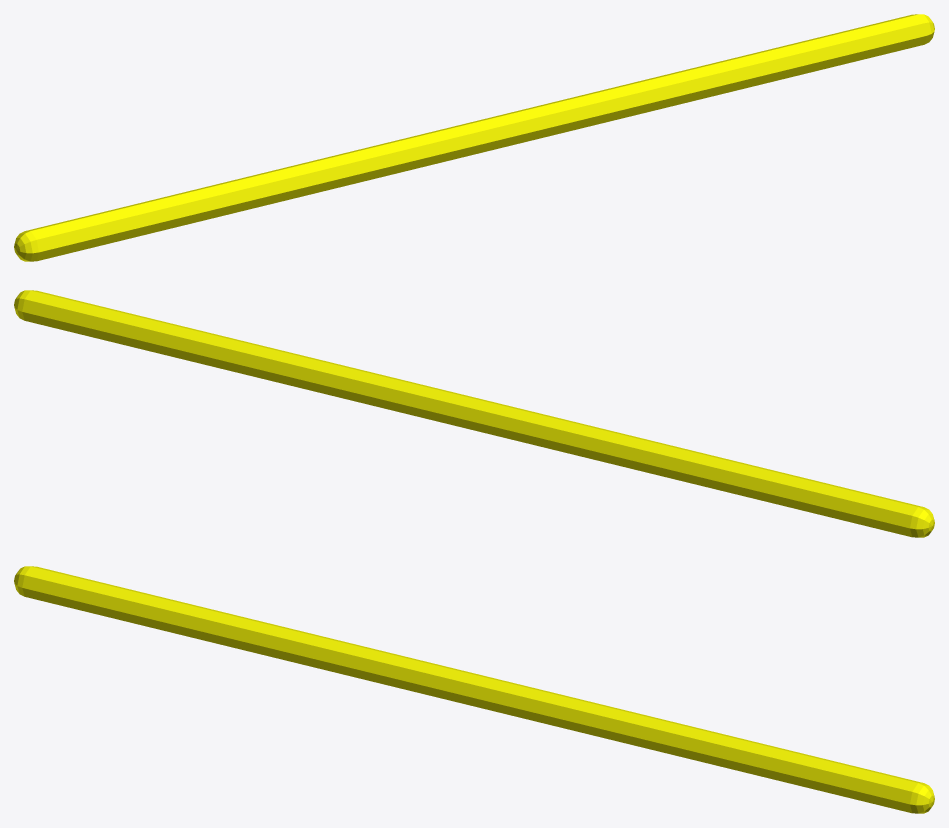
File: pipe_edge_med_r.glb
3 views of the same model, one above another, from view 1: azimuth 30°, elevation 25°; view 2: azimuth 150°, elevation 25°; view 3: azimuth 330°, elevation 25° (orthographic).
Visible parts, largest first — view 1: pipe_7; view 2: pipe_7; view 3: pipe_7.
Part boxes in pixels (box(x1,y1,x2,y2)): pipe_7: box(14, 14, 934, 261); pipe_7: box(14, 290, 934, 537); pipe_7: box(14, 566, 934, 813).
Size of the model in its own units: 3.15 by 0.1 by 0.1.
